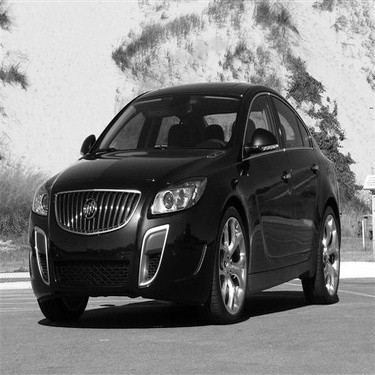car: (25, 78, 345, 326)
